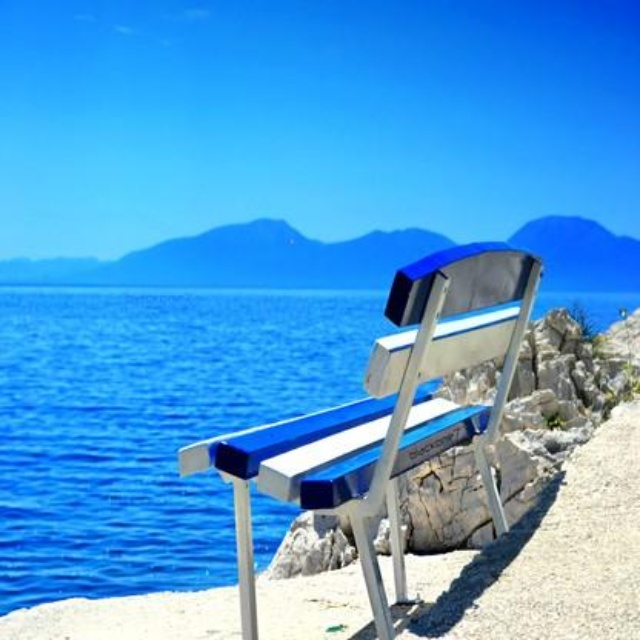obstacle: (180, 235, 548, 632)
